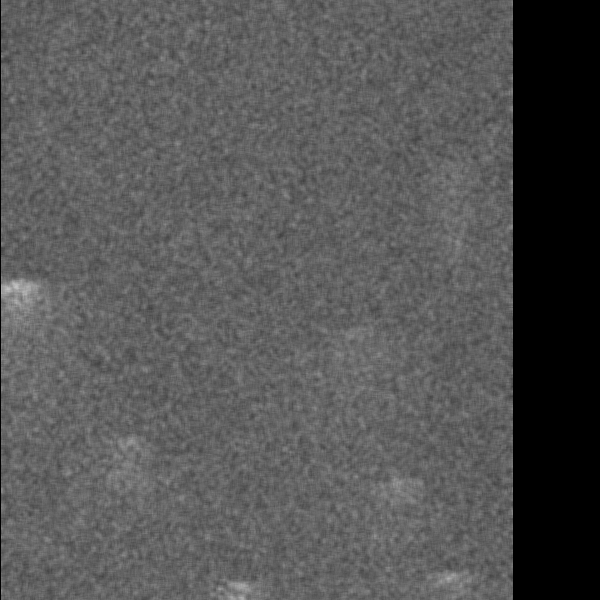spark: (1, 275, 31, 349), (113, 431, 148, 481), (381, 471, 414, 520), (428, 568, 459, 587)
